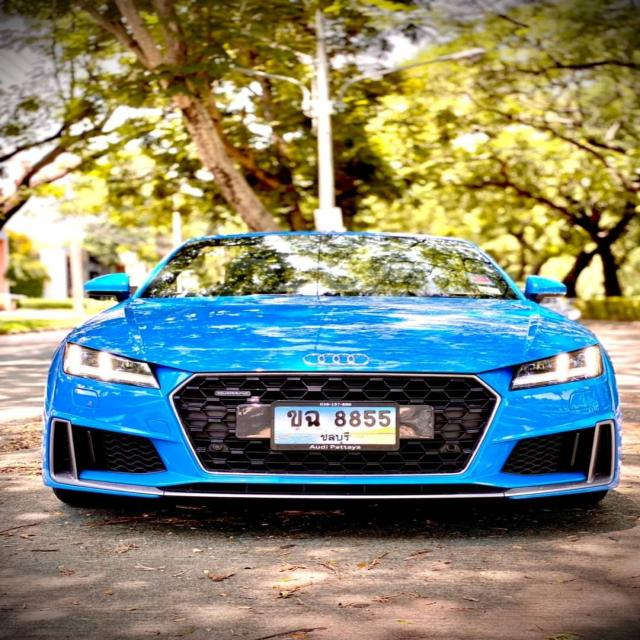license_plate: (271, 400, 399, 451)
